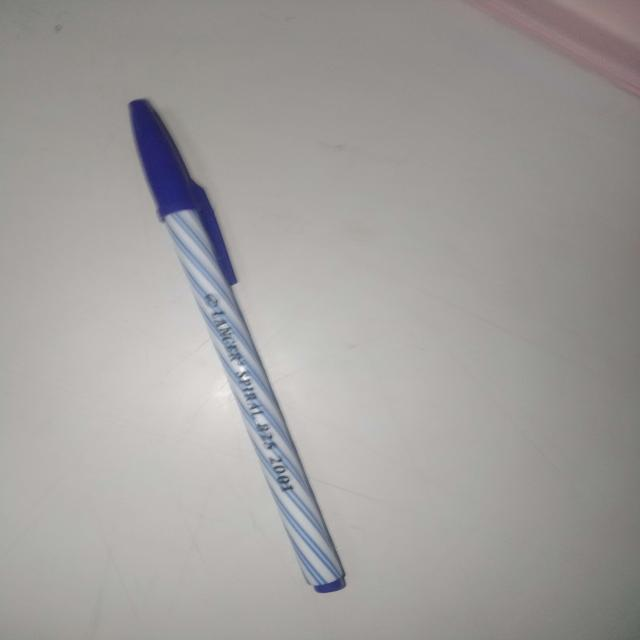pen_pencil: (78, 33, 390, 640)
